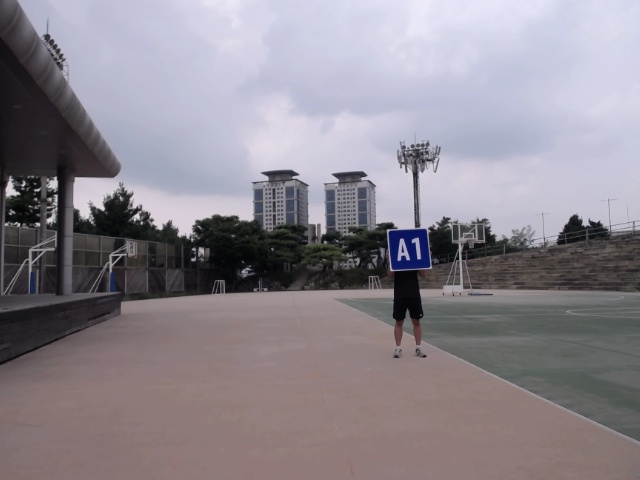delivery_a1: (388, 229, 432, 270)
